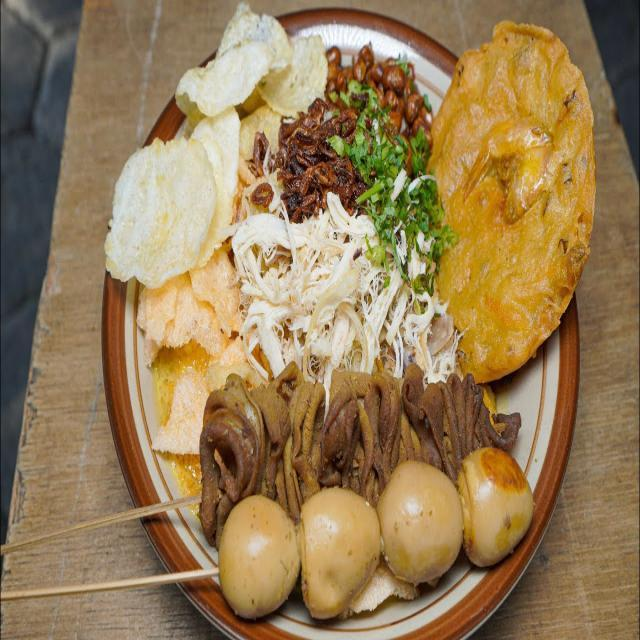bakwan: (424, 21, 596, 392)
bubur ayam: (142, 42, 500, 605)
mangkuk: (100, 7, 580, 640)
